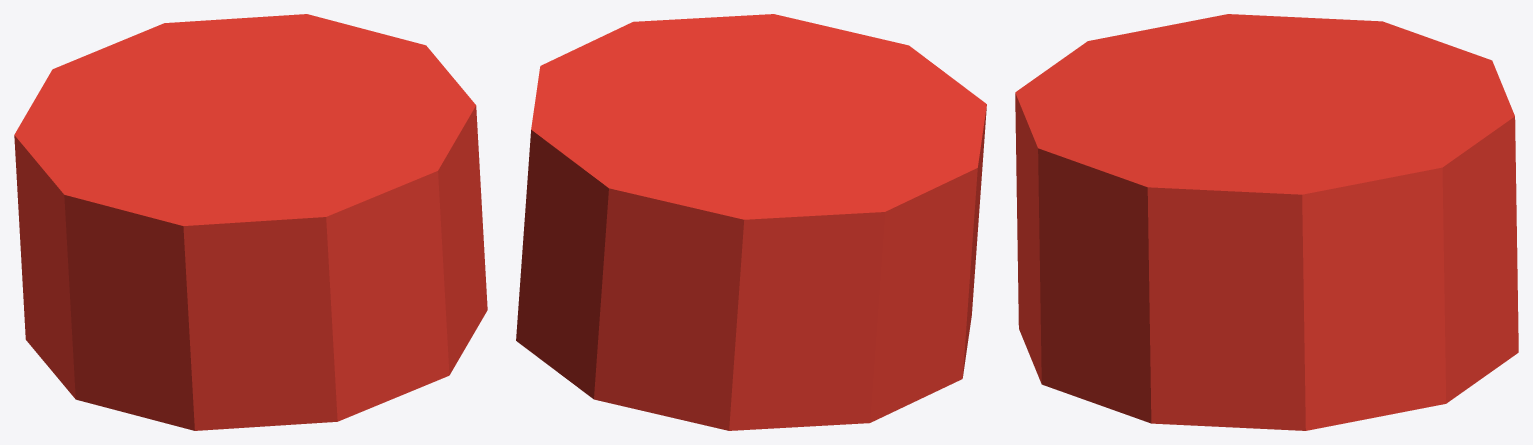
Rendered from group656011633_lev3.glb.
3 renders of one model, left to right at view 1: azimuth 30°, elevation 25°; view 2: azimuth 150°, elevation 25°; view 3: azimuth 270°, elevation 25°, orthographic. The views are drawn at different scales.
Visible parts, largest first — view 1: group656011633_lev3; view 2: group656011633_lev3; view 3: group656011633_lev3.
Boxes of the visible parts, left/top/right/bottom form: group656011633_lev3: left=14, top=14, right=487, bottom=430; group656011633_lev3: left=516, top=14, right=986, bottom=430; group656011633_lev3: left=1015, top=14, right=1518, bottom=430.
Size of the model in its own units: 0.5604 by 0.311 by 0.5457.
